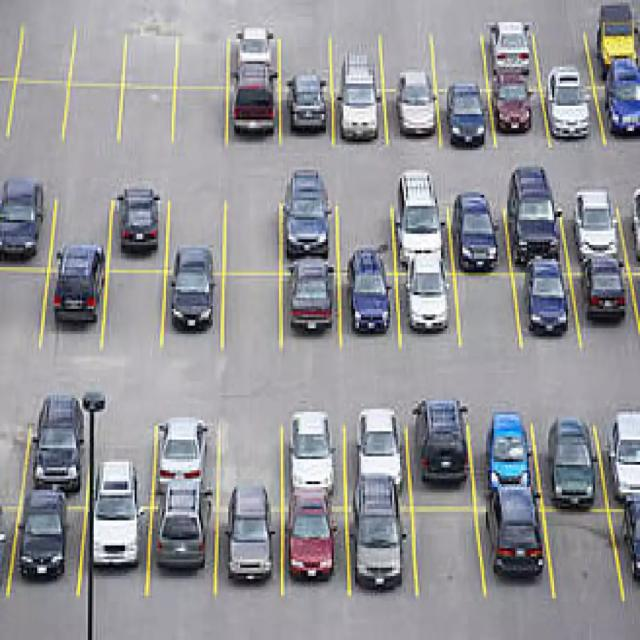libre: (555, 510, 611, 598), (228, 280, 278, 361), (424, 507, 472, 590), (460, 278, 516, 348), (111, 275, 159, 347), (228, 202, 278, 268), (224, 436, 275, 494), (102, 426, 150, 486), (176, 86, 222, 148), (124, 90, 172, 149), (175, 181, 220, 241), (22, 24, 70, 79), (125, 32, 178, 81), (440, 27, 484, 84), (16, 84, 59, 142), (72, 29, 121, 79), (5, 277, 38, 349), (61, 193, 100, 250), (540, 29, 586, 76), (347, 186, 385, 242), (282, 26, 328, 71), (76, 90, 115, 143), (386, 36, 431, 78), (336, 17, 375, 65), (182, 36, 224, 80), (5, 428, 22, 507)
ocupado: (351, 472, 408, 601), (150, 478, 212, 587), (285, 487, 342, 601), (542, 411, 604, 514), (222, 478, 277, 593), (94, 460, 142, 590), (484, 488, 545, 590), (412, 394, 473, 490), (23, 486, 79, 589), (394, 161, 444, 271), (346, 399, 406, 490), (508, 166, 562, 266), (284, 403, 338, 502), (481, 402, 534, 502), (280, 166, 332, 260), (155, 408, 214, 490), (48, 262, 103, 348), (36, 398, 86, 492), (452, 193, 510, 274), (168, 245, 216, 341), (346, 251, 394, 347), (402, 258, 452, 346), (520, 264, 573, 346), (571, 185, 622, 266), (291, 251, 336, 338), (115, 184, 163, 265), (580, 256, 628, 336), (493, 84, 543, 154), (2, 178, 46, 257), (230, 82, 280, 151), (337, 73, 384, 145), (394, 80, 440, 148), (449, 87, 490, 163), (599, 76, 640, 151), (611, 411, 640, 511), (230, 19, 278, 78), (552, 82, 598, 143), (492, 18, 533, 81), (596, 9, 640, 66), (291, 76, 330, 137), (621, 495, 640, 595)
